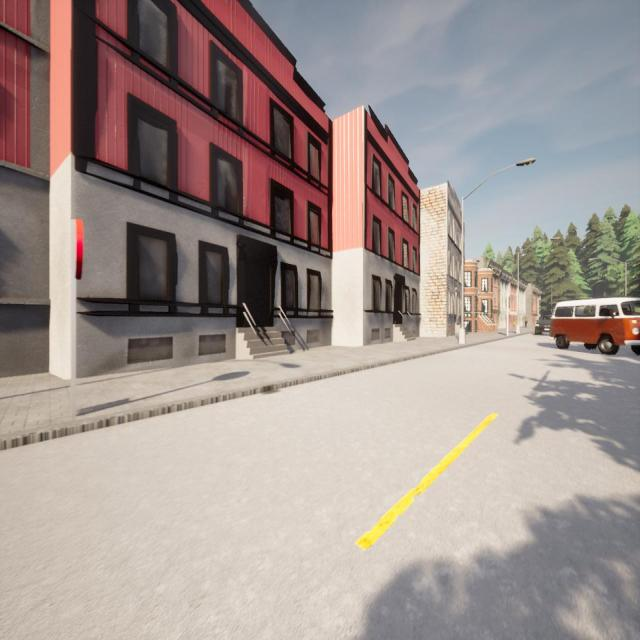Pedestrian: (524, 315, 528, 328), (513, 318, 516, 328)
Traffic_Signs: (70, 219, 86, 284)
Vehicle: (550, 297, 640, 354), (535, 314, 551, 336)
traffic_light: (507, 297, 510, 309)
